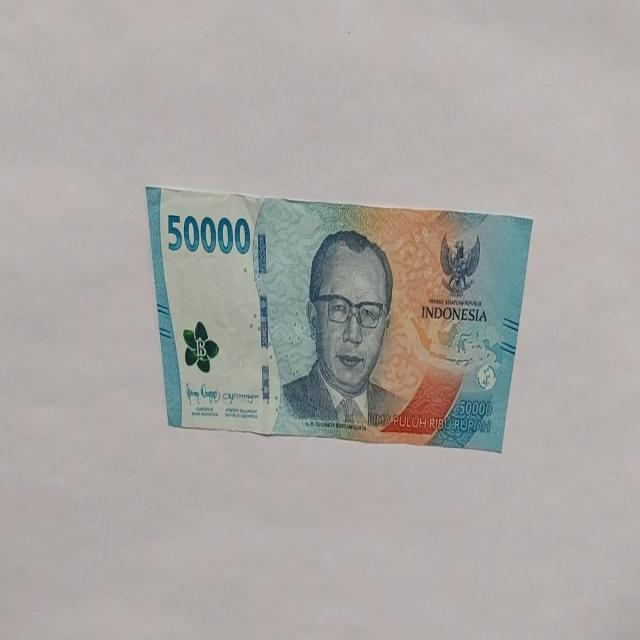lima puluh ribu rupiah: (144, 184, 534, 452), (278, 228, 408, 430), (165, 210, 251, 257)
